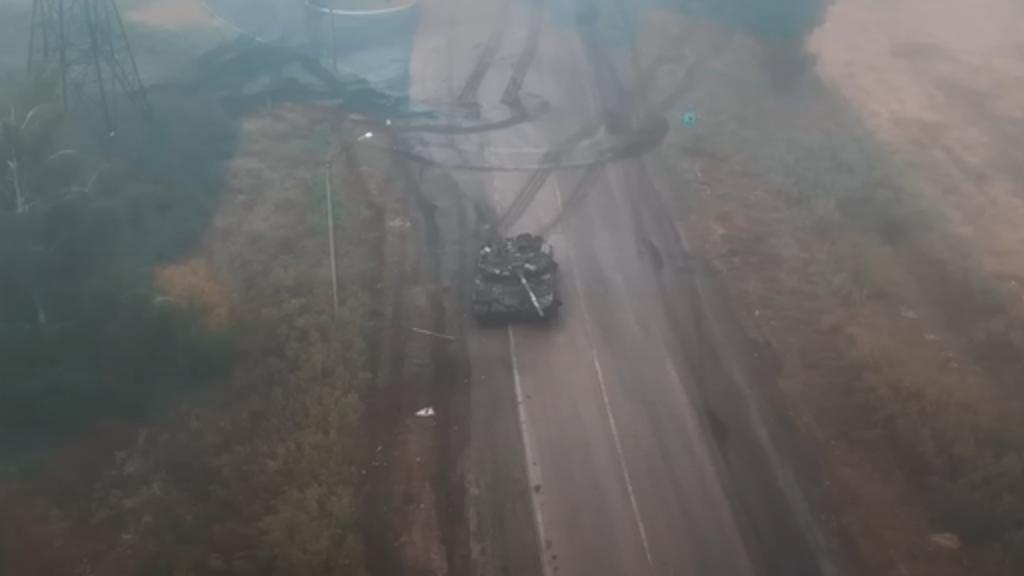TANK: (462, 220, 566, 334)
